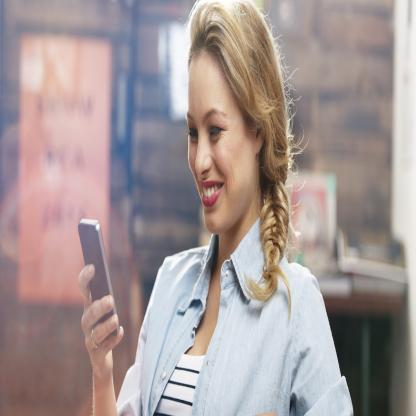smartphone: (78, 217, 120, 336)
